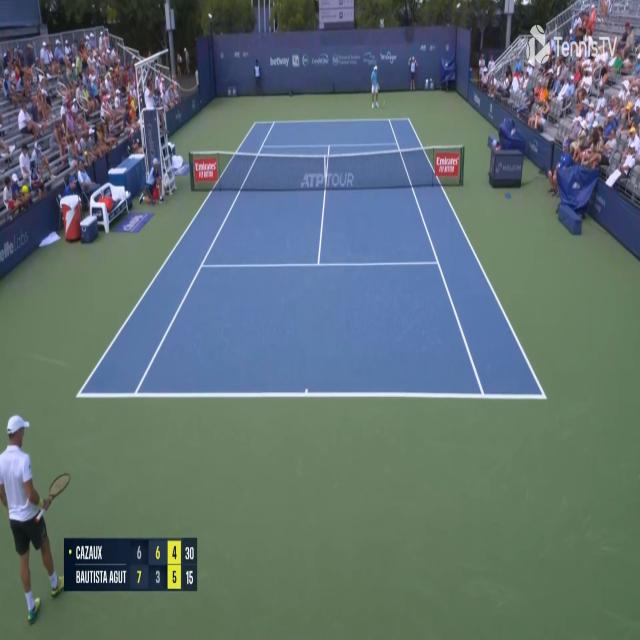tennis-player: (0, 410, 72, 623), (370, 62, 382, 109)
